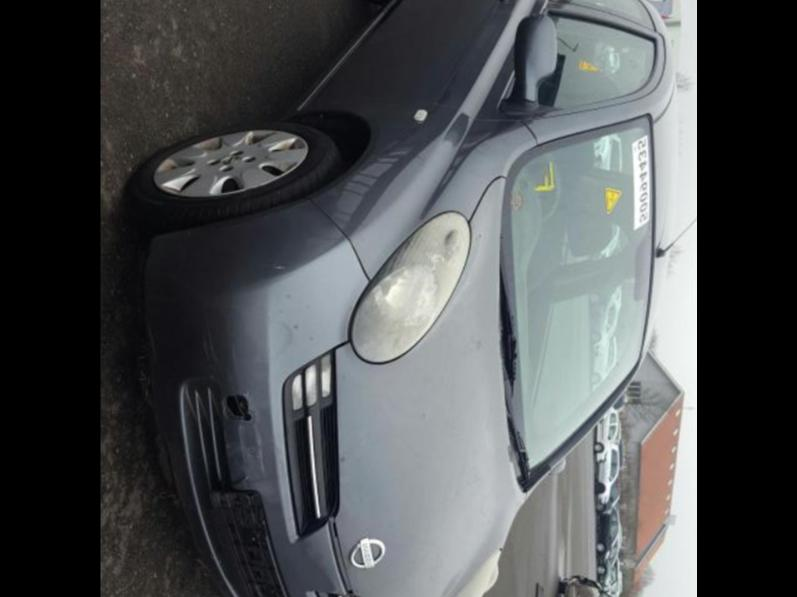Corrosion: (269, 140, 301, 152), (200, 140, 221, 150), (243, 134, 261, 144), (165, 161, 179, 171)
Dent: (227, 441, 254, 484), (267, 319, 294, 358), (290, 321, 302, 330)
Missing part: (210, 492, 288, 597), (220, 391, 254, 422)
Paint chip: (268, 257, 289, 270)
Scratch: (200, 323, 223, 367), (252, 423, 269, 474), (239, 385, 261, 417)
